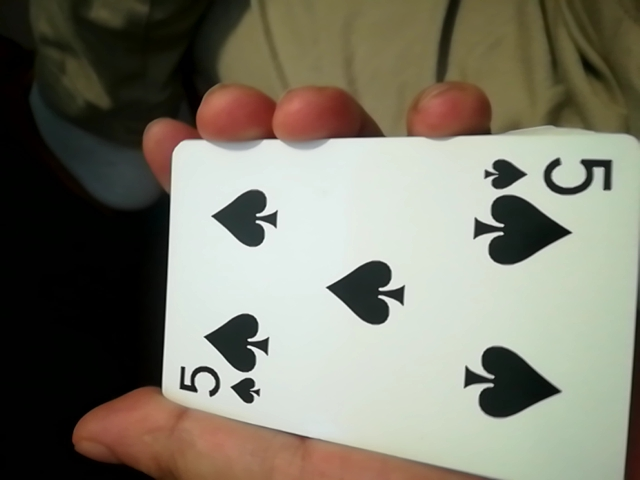ht 5: (139, 123, 631, 480)
